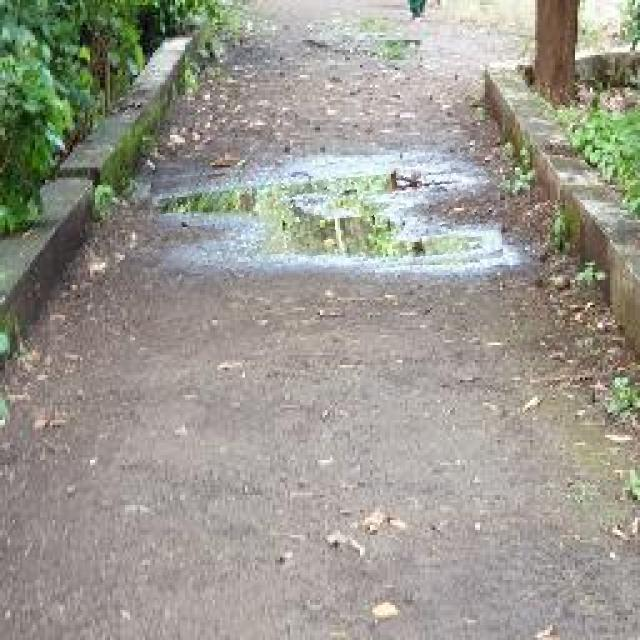puddle: (154, 159, 503, 281)
